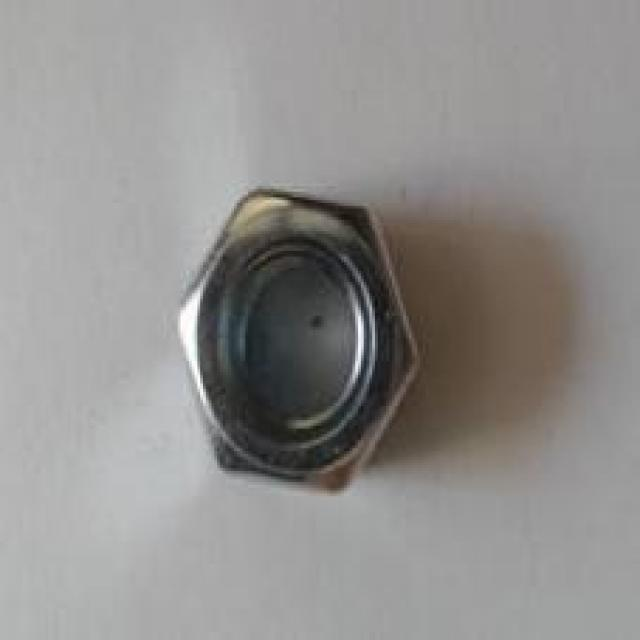ecrouOK: (171, 183, 423, 498)
